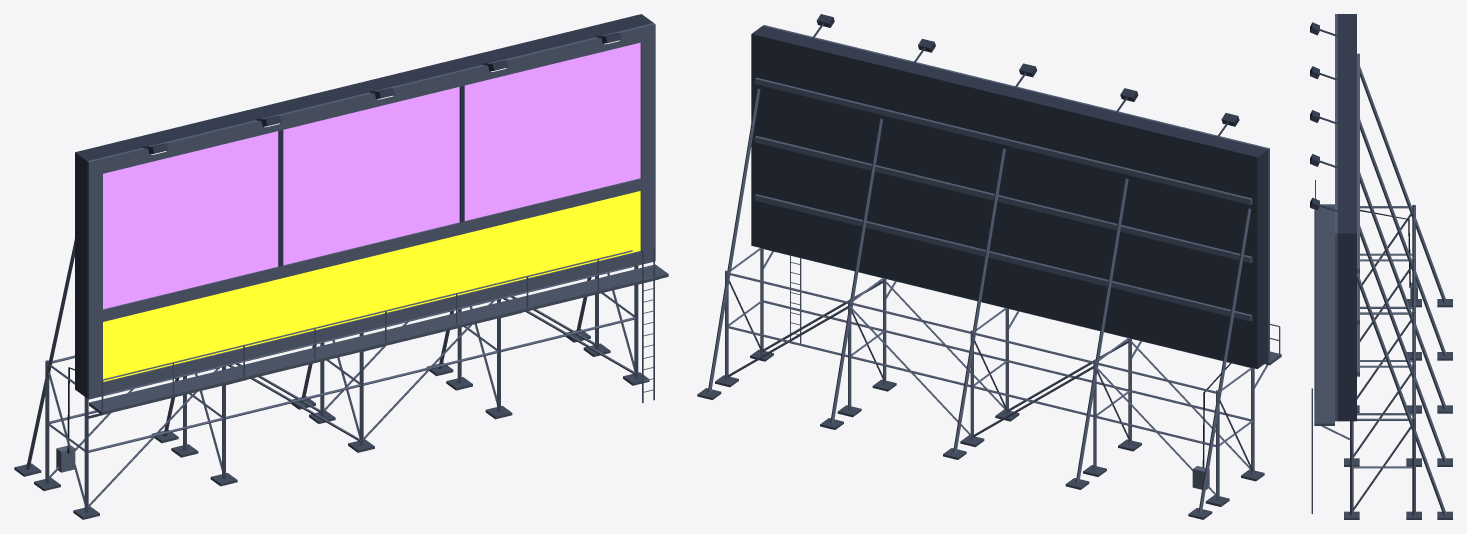
The model's file is roof_giant_sign.glb.
3 views of the same model, side by side, from view 1: azimuth 30°, elevation 25°; view 2: azimuth 150°, elevation 25°; view 3: azimuth 270°, elevation 25° (orthographic). The views are drawn at different scales.
Parts seen in each view (by area): view 1: panel_violet, scaffold, panel_amber, housing, catwalk, pad; view 2: housing, scaffold, pad; view 3: scaffold, housing, catwalk, pad, feed_cable.
Boxes of the visible parts, bbox=[...] form: panel_violet: bbox=[103, 42, 640, 309]; scaffold: bbox=[26, 23, 658, 512]; panel_amber: bbox=[103, 191, 640, 381]; housing: bbox=[75, 14, 653, 397]; catwalk: bbox=[89, 264, 668, 414]; pad: bbox=[14, 329, 649, 519]; housing: bbox=[751, 14, 1268, 368]; scaffold: bbox=[707, 25, 1280, 513]; pad: bbox=[697, 349, 1264, 519]; scaffold: bbox=[1311, 14, 1446, 515]; housing: bbox=[1310, 14, 1356, 421]; catwalk: bbox=[1314, 204, 1334, 425]; pad: bbox=[1344, 299, 1452, 519]; feed_cable: bbox=[1360, 209, 1410, 287].
Size of the model in its own units: 20 by 12.67 by 5.51.
